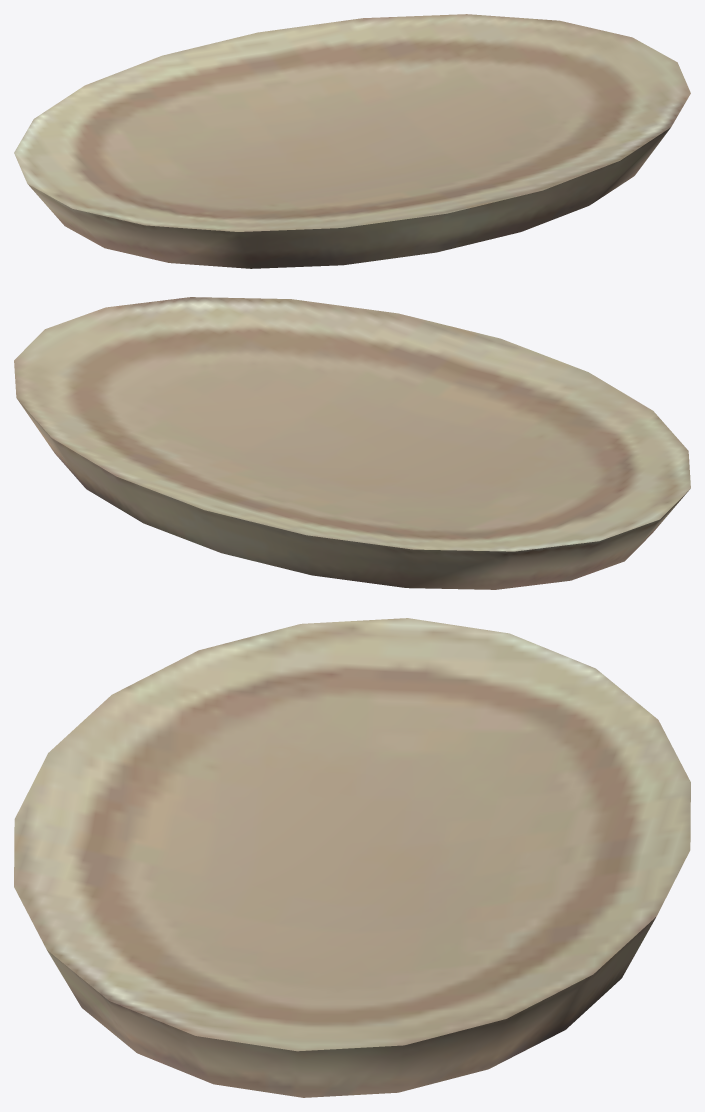
Rendered from Oval_Plate.fbx.
3 views of the same model, one above another, from view 1: azimuth 30°, elevation 25°; view 2: azimuth 150°, elevation 25°; view 3: azimuth 270°, elevation 25° (orthographic). The views are drawn at different scales.
Visible parts, largest first — view 1: Oval_Plate; view 2: Oval_Plate; view 3: Oval_Plate.
Boxes of the visible parts, left/top/right/bottom form: Oval_Plate: left=14, top=14, right=690, bottom=268; Oval_Plate: left=14, top=297, right=690, bottom=589; Oval_Plate: left=14, top=618, right=690, bottom=1097.
Size of the model in its own units: 0.7811 by 0.0601 by 0.5159.
